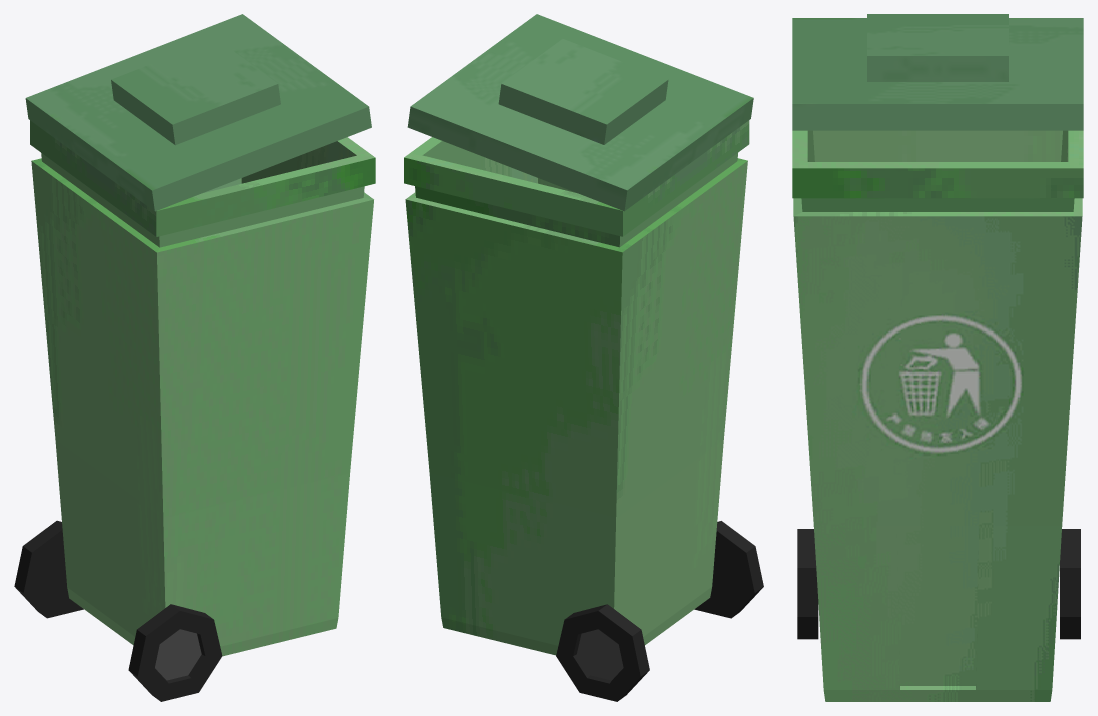
The model's file is TrashBin.glb.
3 renders of one model, left to right at view 1: azimuth 30°, elevation 25°; view 2: azimuth 150°, elevation 25°; view 3: azimuth 270°, elevation 25°, orthographic. The views are drawn at different scales.
Parts seen in each view (by area): view 1: Cube, Cube.001, Cylinder.001, Cylinder; view 2: Cube, Cube.001, Cylinder, Cylinder.001; view 3: Cube, Cube.001, Cylinder, Cylinder.001.
Boxes of the visible parts, x1,y1,x2,y2 form: Cube: (30,120,375,656); Cube.001: (25,14,371,211); Cylinder.001: (128,604,222,701); Cylinder: (14,520,83,618); Cube: (404,120,749,655); Cube.001: (407,14,753,211); Cylinder: (556,604,649,701); Cylinder.001: (694,521,763,618); Cube: (792,130,1083,701); Cube.001: (792,14,1083,130); Cylinder: (1060,529,1080,639); Cylinder.001: (797,529,818,639).
Size of the model in its own units: 2.27 by 5.15 by 2.11.
Materials: 4 (2 with a texture image).
